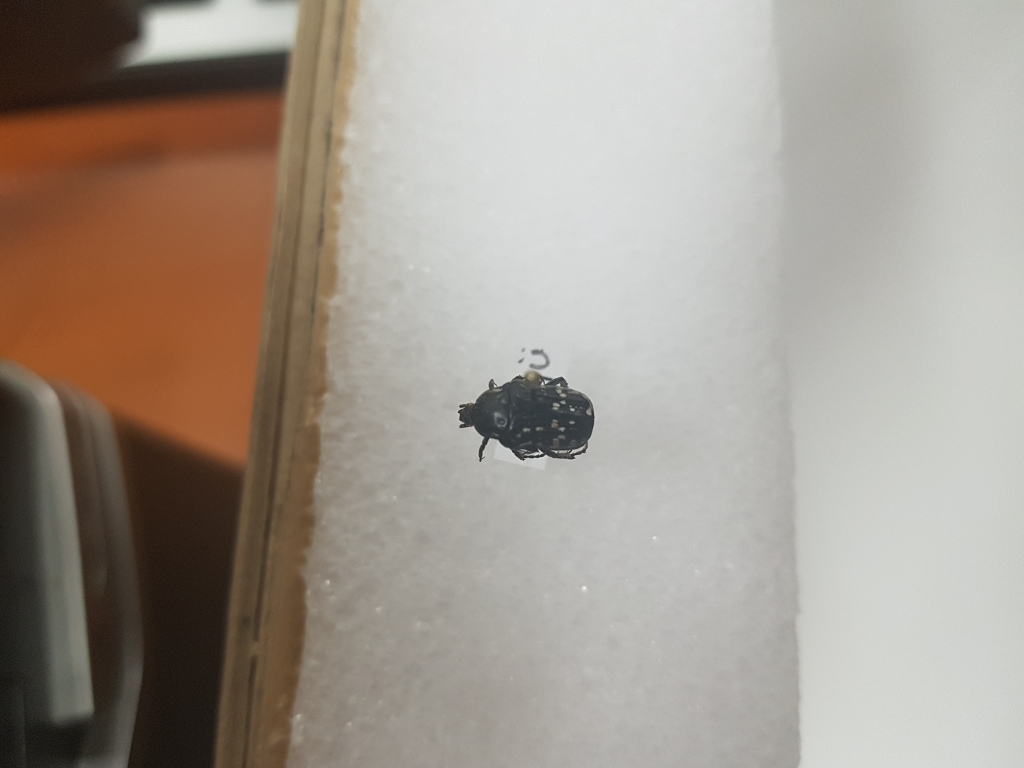Oxythyrea_albopicta: (455, 371, 602, 467)
